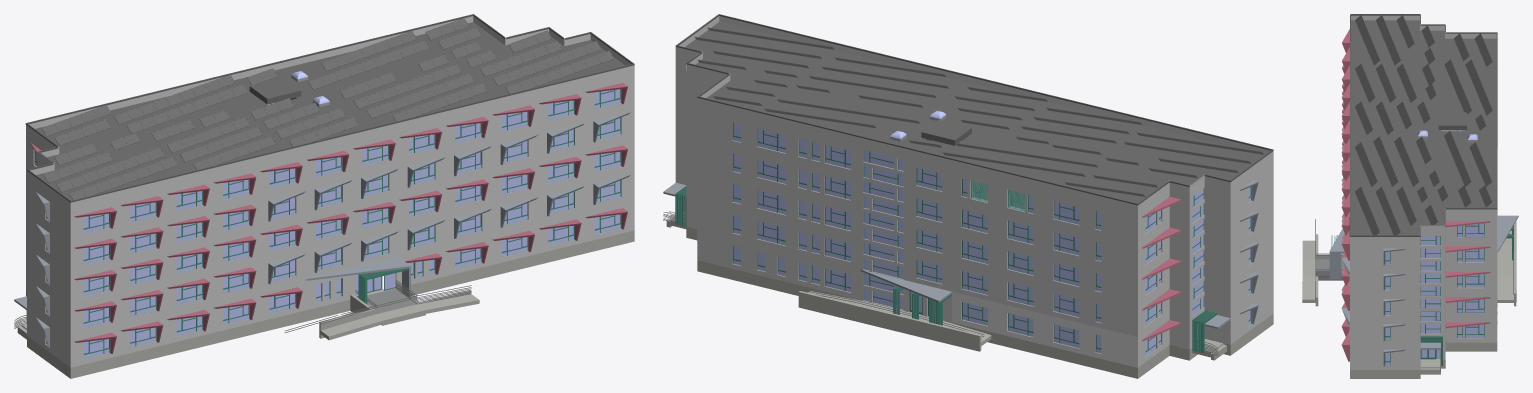
Rendered from facade_o2.glb.
3 views of the same model, side by side, from view 1: azimuth 30°, elevation 25°; view 2: azimuth 150°, elevation 25°; view 3: azimuth 270°, elevation 25° (orthographic). The views are drawn at different scales.
Visible parts, largest first — view 1: IfcWallStandardCase/ARVS-02.024, IfcRailing/Väliskäsipuu.014, IfcWindow/ARA.292, IfcBuildingElementPart/Component 5.002, IfcRoof/ARKATUS - 002.078, IfcRamp/ARKATUS - 001.004, IfcBeam/ARTALA - 001.002, IfcSlab/ARPÕRAND - 013.004, IfcSlab/ARPÕRAND - 001.005; view 2: IfcWallStandardCase/ARVS-02.024, IfcBuildingElementPart/Component 5.002, IfcWindow/ARA.292, IfcRailing/Väliskäsipuu.014, IfcBeam/ARTALA - 001.002, IfcRamp/ARKATUS - 001.004, IfcWallStandardCase/ARVS-01.067, IfcSlab/ARPÕRAND - 013.004, IfcRoof/ARKATUS - 002.078; view 3: IfcBuildingElementPart/Component 5.002, IfcWallStandardCase/ARVS-02.024, IfcRailing/Väliskäsipuu.014, IfcWindow/ARA.292, IfcRamp/ARKATUS - 001.004, IfcRoof/ARKATUS - 002.078, IfcSlab/ARPÕRAND - 013.004, IfcBeam/ARTALA - 001.002, IfcSlab/ARPÕRAND - 001.005.
Boxes of the visible parts, <box> form: IfcWallStandardCase/ARVS-02.024: <box>26,16,634,367</box>; IfcRailing/Väliskäsipuu.014: <box>14,14,634,332</box>; IfcWindow/ARA.292: <box>33,71,621,359</box>; IfcBuildingElementPart/Component 5.002: <box>35,22,624,200</box>; IfcRoof/ARKATUS - 002.078: <box>30,82,627,353</box>; IfcRamp/ARKATUS - 001.004: <box>17,230,634,378</box>; IfcBeam/ARTALA - 001.002: <box>26,89,620,354</box>; IfcSlab/ARPÕRAND - 013.004: <box>14,112,630,347</box>; IfcSlab/ARPÕRAND - 001.005: <box>367,288,416,314</box>; IfcWallStandardCase/ARVS-02.024: <box>675,16,1273,367</box>; IfcBuildingElementPart/Component 5.002: <box>685,22,1264,203</box>; IfcWindow/ARA.292: <box>732,110,1252,357</box>; IfcRailing/Väliskäsipuu.014: <box>663,14,1273,355</box>; IfcBeam/ARTALA - 001.002: <box>675,123,1251,353</box>; IfcRamp/ARKATUS - 001.004: <box>666,211,1273,378</box>; IfcWallStandardCase/ARVS-01.067: <box>952,292,1137,367</box>; IfcSlab/ARPÕRAND - 013.004: <box>663,180,1258,328</box>; IfcRoof/ARKATUS - 002.078: <box>1142,196,1180,341</box>; IfcBuildingElementPart/Component 5.002: <box>1350,20,1496,235</box>; IfcWallStandardCase/ARVS-02.024: <box>1350,15,1497,369</box>; IfcRailing/Väliskäsipuu.014: <box>1315,14,1513,371</box>; IfcWindow/ARA.292: <box>1349,130,1497,366</box>; IfcRamp/ARKATUS - 001.004: <box>1302,221,1516,378</box>; IfcRoof/ARKATUS - 002.078: <box>1341,29,1490,361</box>; IfcSlab/ARPÕRAND - 013.004: <box>1329,129,1518,366</box>; IfcBeam/ARTALA - 001.002: <box>1331,130,1513,365</box>; IfcSlab/ARPÕRAND - 001.005: <box>1315,259,1344,280</box>.
Bounding box in the file's own units: 64.42 × 19.17 × 25.98.
